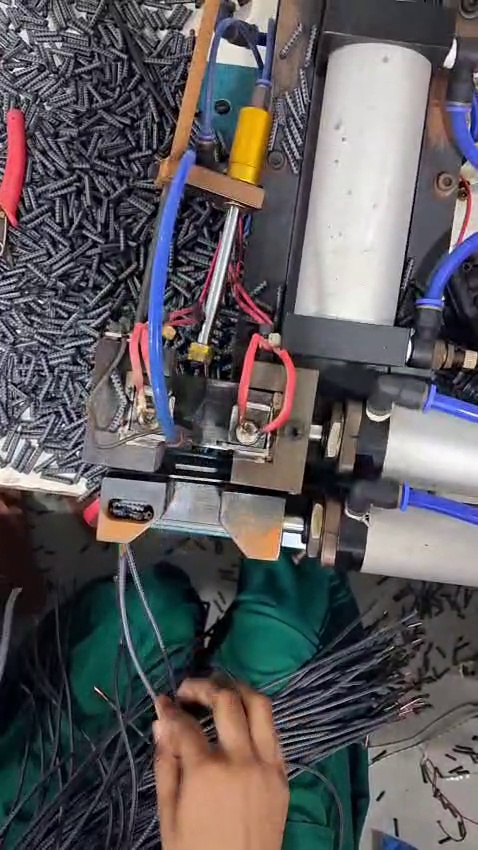machine: (67, 302, 345, 509)
peeled_wire: (111, 538, 149, 592)
